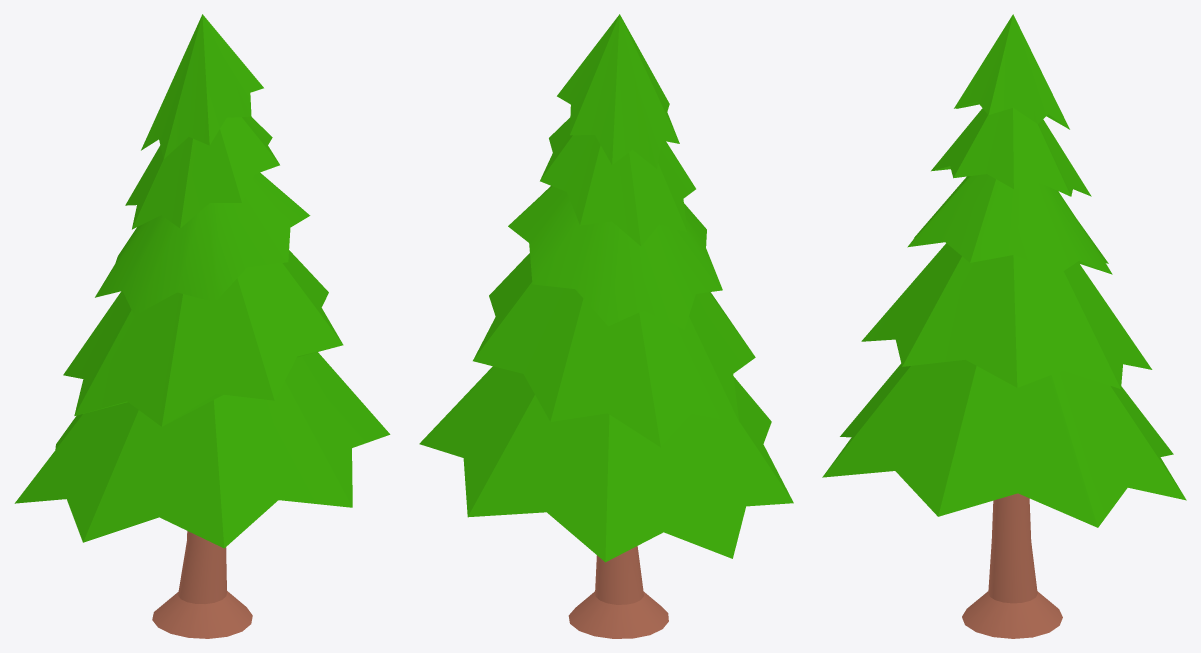
The model's file is object_96_lev1.glb.
3 views of the same model, side by side, from view 1: azimuth 30°, elevation 25°; view 2: azimuth 150°, elevation 25°; view 3: azimuth 270°, elevation 25° (orthographic).
Parts seen in each view (by area): view 1: object_96_lev1; view 2: object_96_lev1; view 3: object_96_lev1.
Part boxes in pixels (x1,y1,x2,y2): object_96_lev1: (14,14,390,638); object_96_lev1: (419,14,793,638); object_96_lev1: (822,14,1186,638).
Size of the model in its own units: 0.6822 by 1.28 by 0.6987.
1 material, 1 textured.
